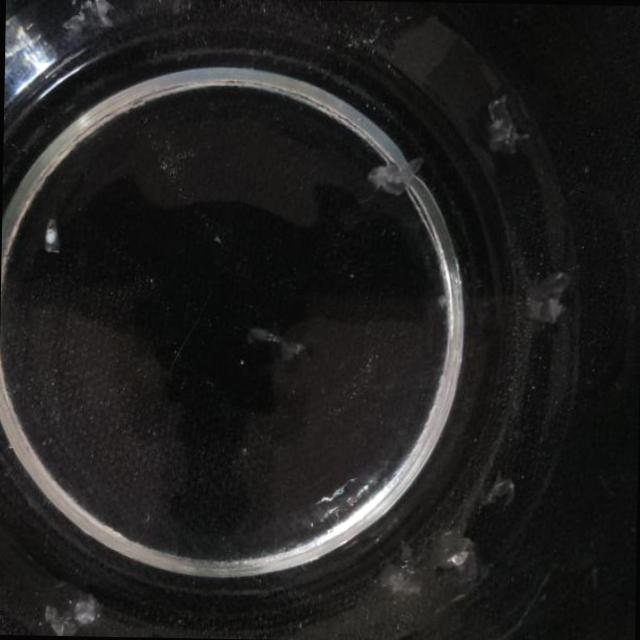fiber: (378, 522, 476, 608), (514, 265, 573, 325), (63, 0, 123, 54), (38, 589, 106, 636), (483, 90, 530, 156), (367, 152, 428, 201), (242, 324, 308, 366), (483, 474, 520, 504), (40, 214, 60, 257)
